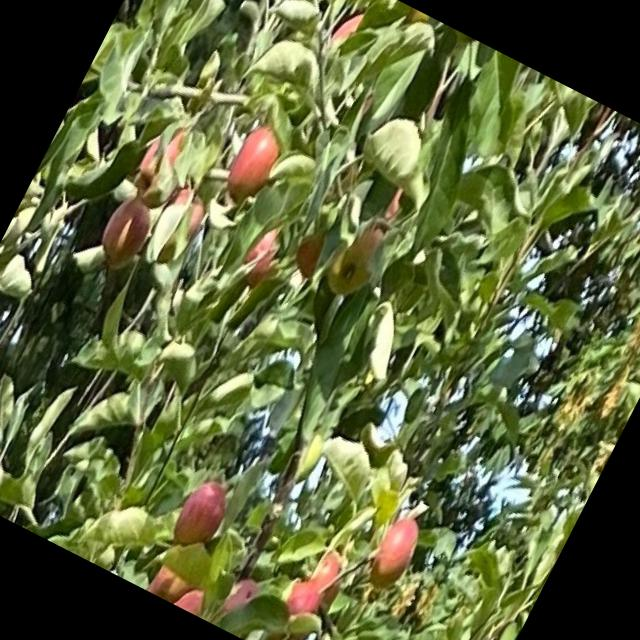Apples: (130, 121, 198, 208), (326, 216, 394, 301), (168, 476, 238, 557), (282, 546, 351, 628), (222, 125, 285, 205), (151, 183, 214, 257), (363, 517, 425, 592), (96, 194, 158, 268), (240, 222, 291, 284), (290, 223, 338, 280), (326, 5, 369, 59), (218, 574, 264, 624), (174, 582, 218, 620)
